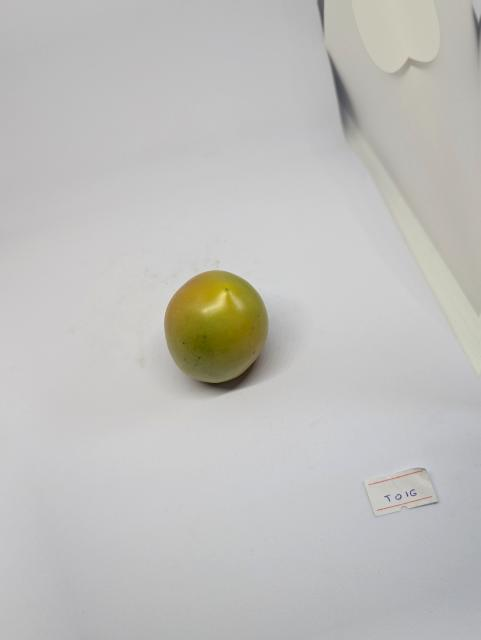breaker: (165, 271, 269, 383)
